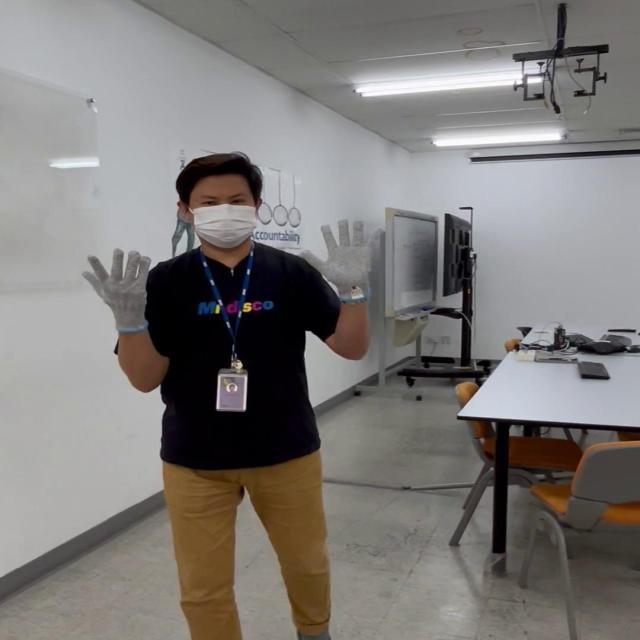gloved_hand: (79, 244, 175, 338), (300, 218, 380, 305)
